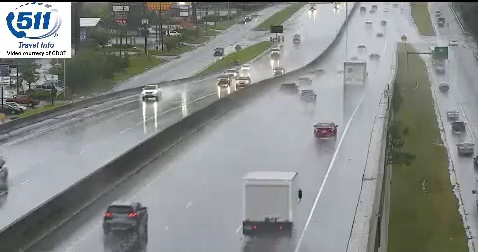car: (103, 202, 147, 233), (314, 122, 336, 138)
small-truck: (243, 171, 297, 238), (343, 61, 367, 87)
